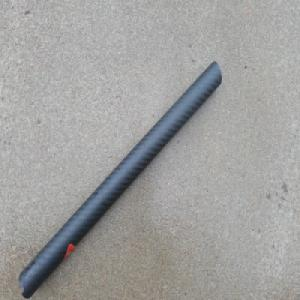LuggagePart: (20, 60, 222, 297)
